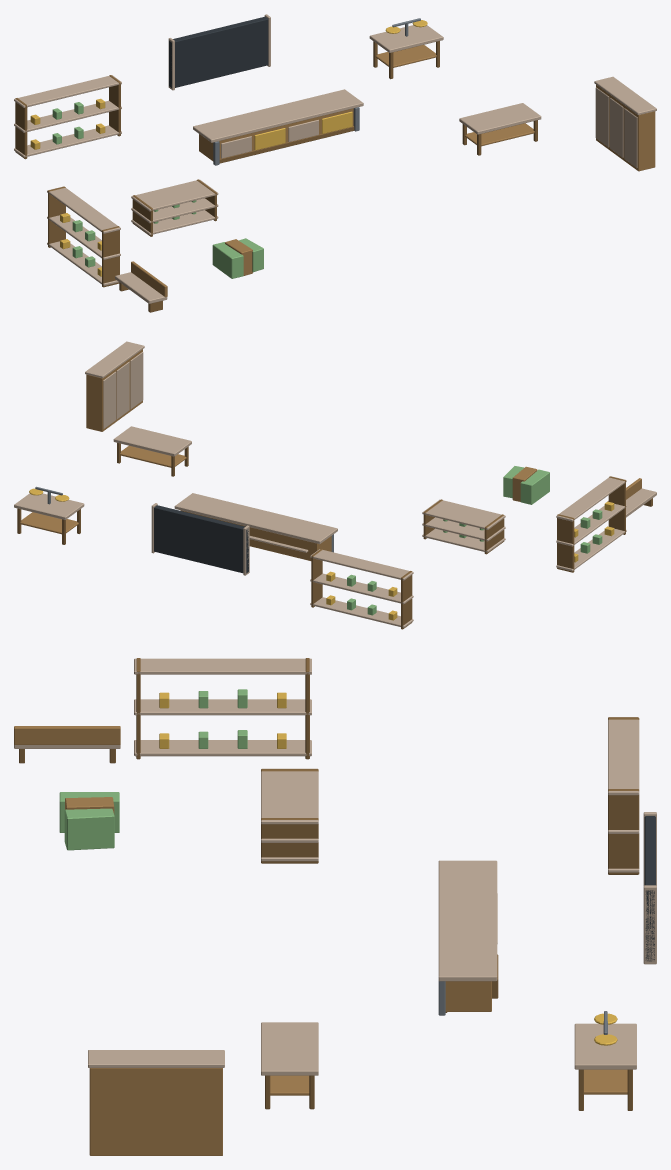
Rendered from brightcart_general_house.lod1.glb.
3 views of the same model, one above another, from view 1: azimuth 30°, elevation 25°; view 2: azimuth 150°, elevation 25°; view 3: azimuth 270°, elevation 25° (orthographic). The views are drawn at different scales.
Size of the model in its own units: 21.84 by 2.79 by 14.45.
